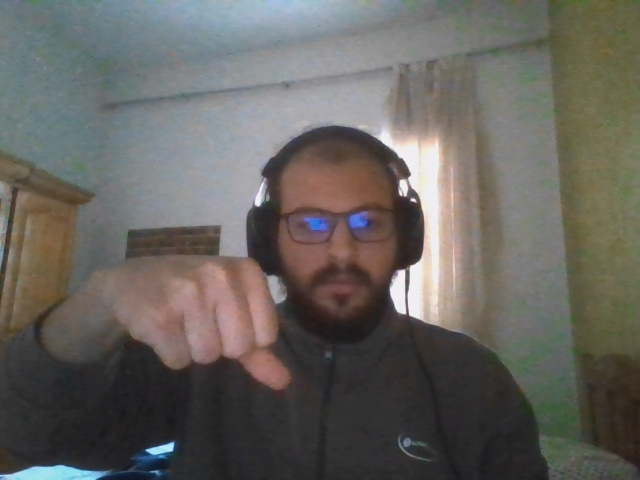Yes: (119, 259, 287, 391)
